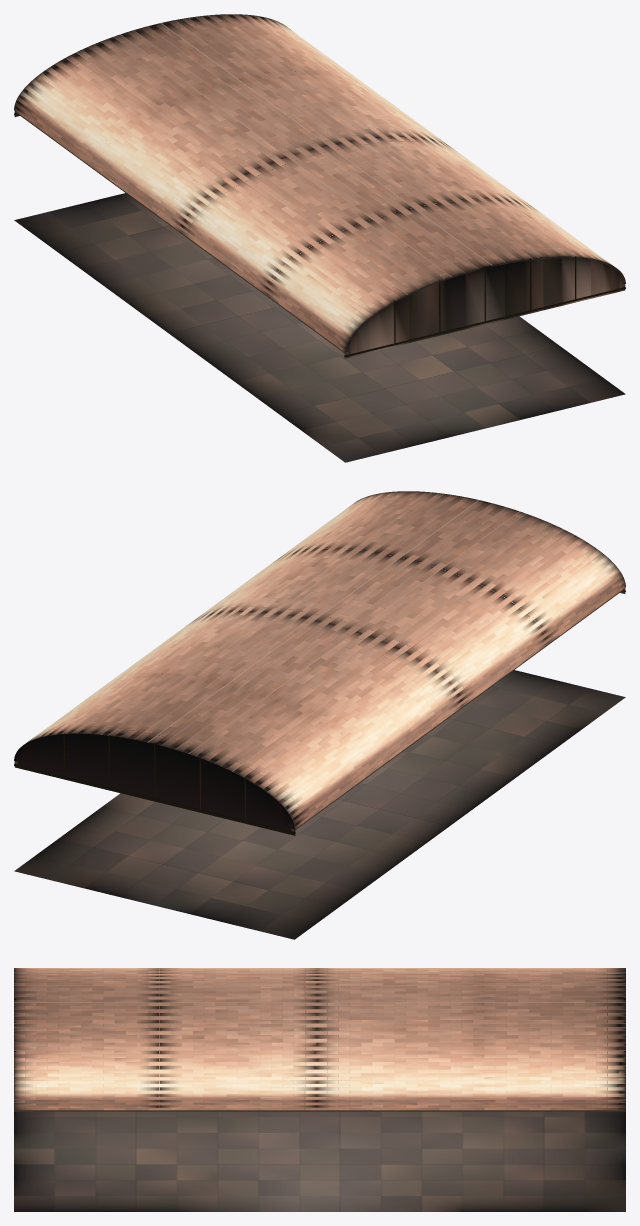
Rendered from vault.glb.
3 renders of one model, top to bottom at view 1: azimuth 30°, elevation 25°; view 2: azimuth 150°, elevation 25°; view 3: azimuth 270°, elevation 25°, orthographic. The views are drawn at different scales.
Parts seen in each view (by area): view 1: Surface; view 2: Surface; view 3: Surface.
Boxes of the visible parts, x1,y1,x2,y2 form: Surface: [14, 14, 625, 462]; Surface: [14, 491, 625, 939]; Surface: [14, 968, 625, 1211].
Size of the model in its own units: 6.68 by 3.67 by 13.66.
Materials: 1 (1 with a texture image).
